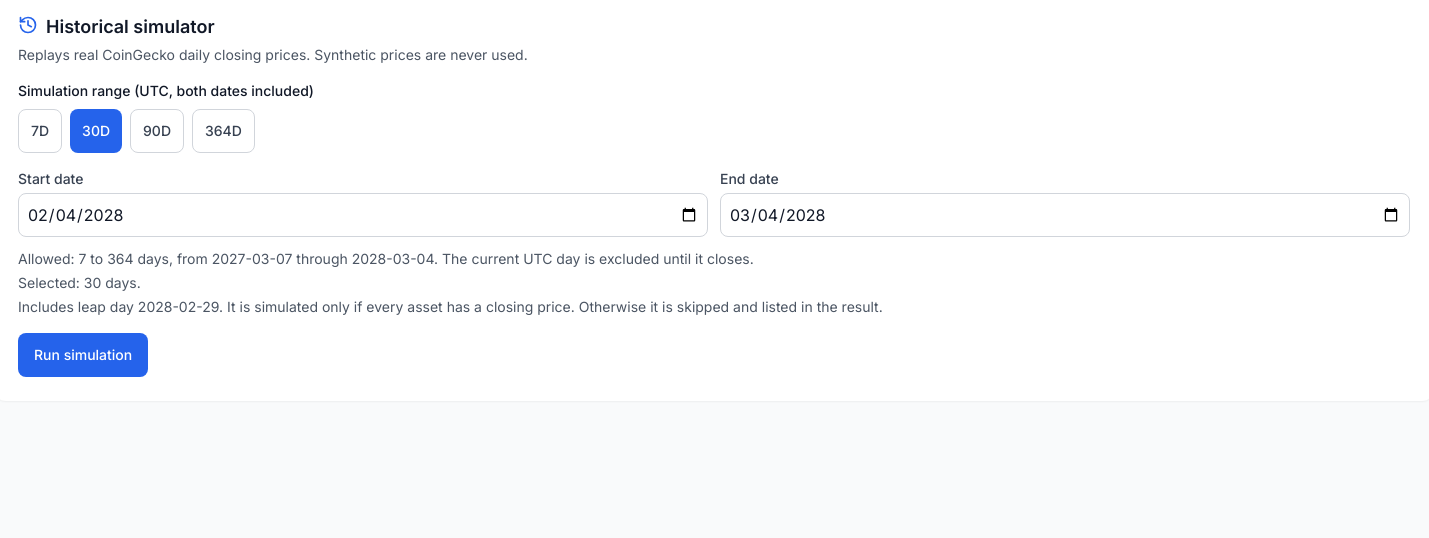
Test case: HistoricalSimulator › announces insufficient real price history, focuses it, and can be dismissed
The width and height of the screenshot is (1429, 538).
Click the button named "Use the last 7 closed days" at {"x": 40, "y": 131}, box [18,109,62,153]
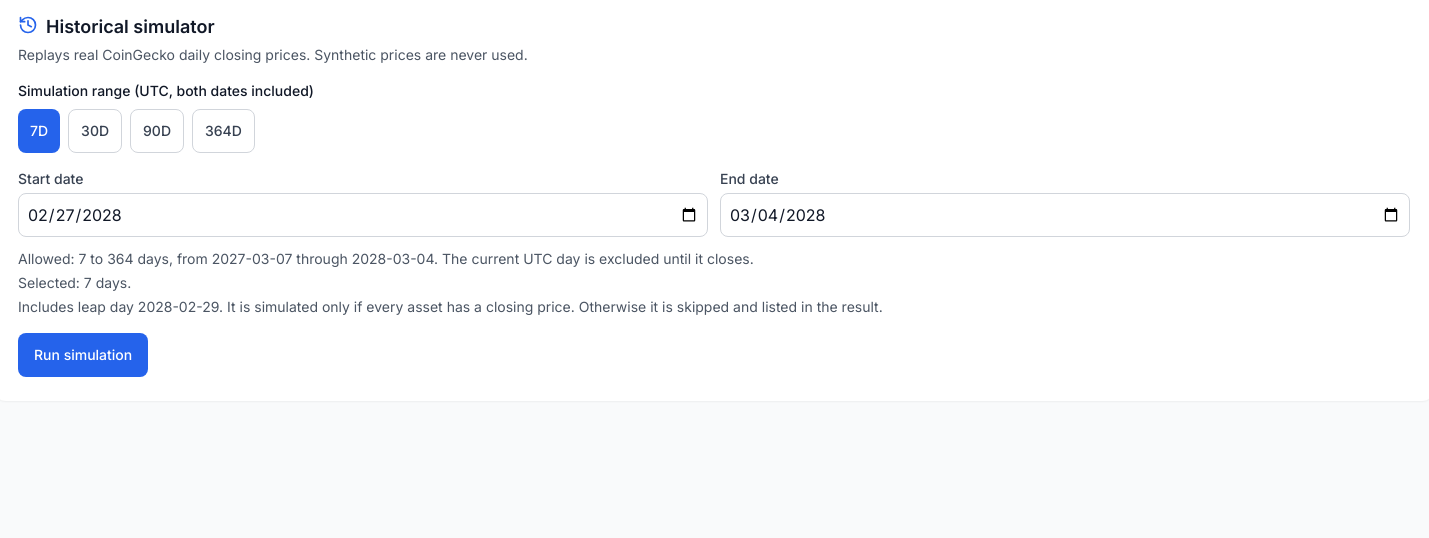
Click the button "Run simulation" at {"x": 83, "y": 355}, box [18,333,148,377]
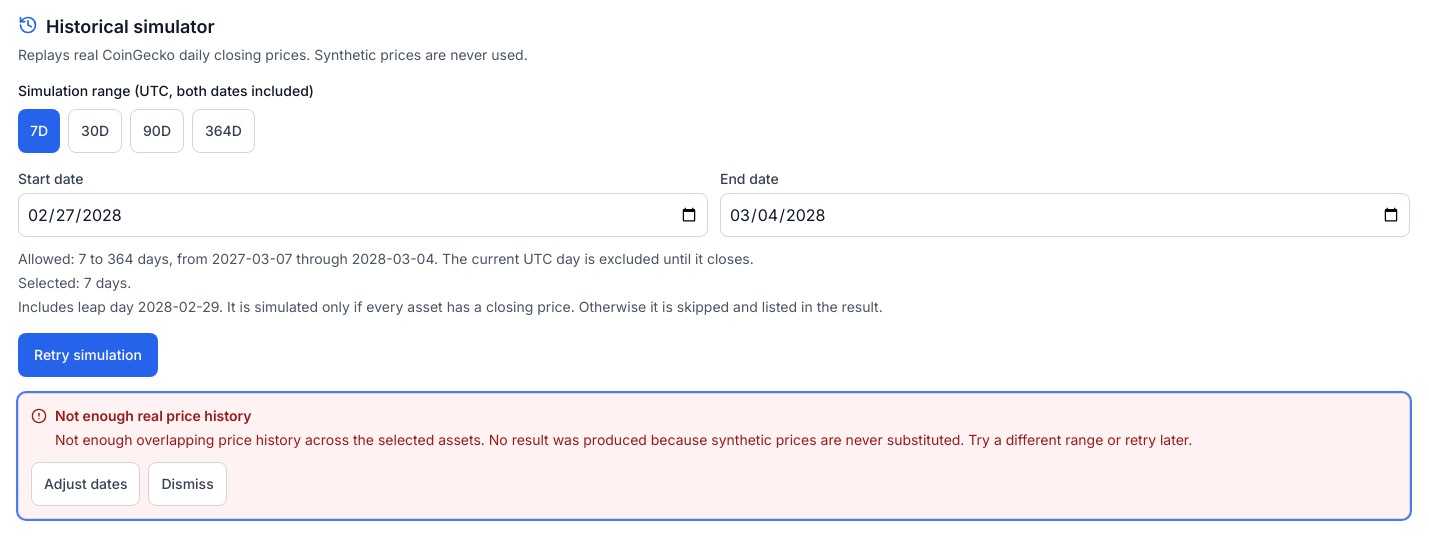
Now the message shows "Not enough real price history", box [55,407,252,424]
Now the button "Retry simulation" is shown, box [18,333,158,377]
Click the button "Dismiss" at {"x": 188, "y": 484}, box [148,462,227,506]
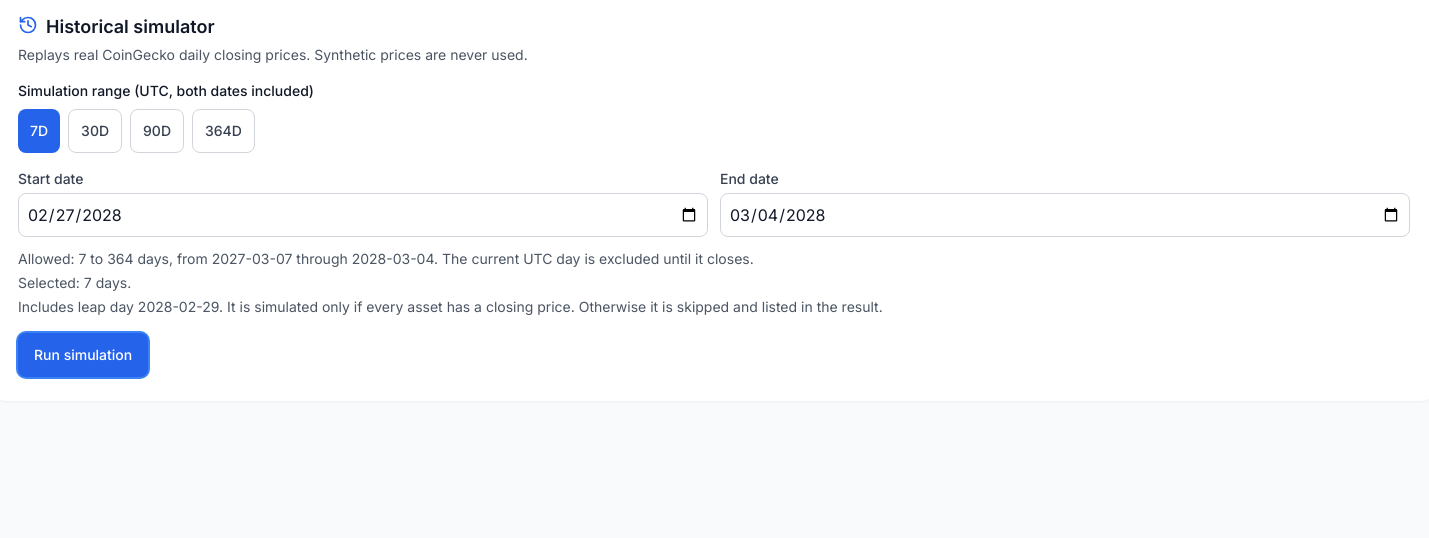
Now the message is gone
